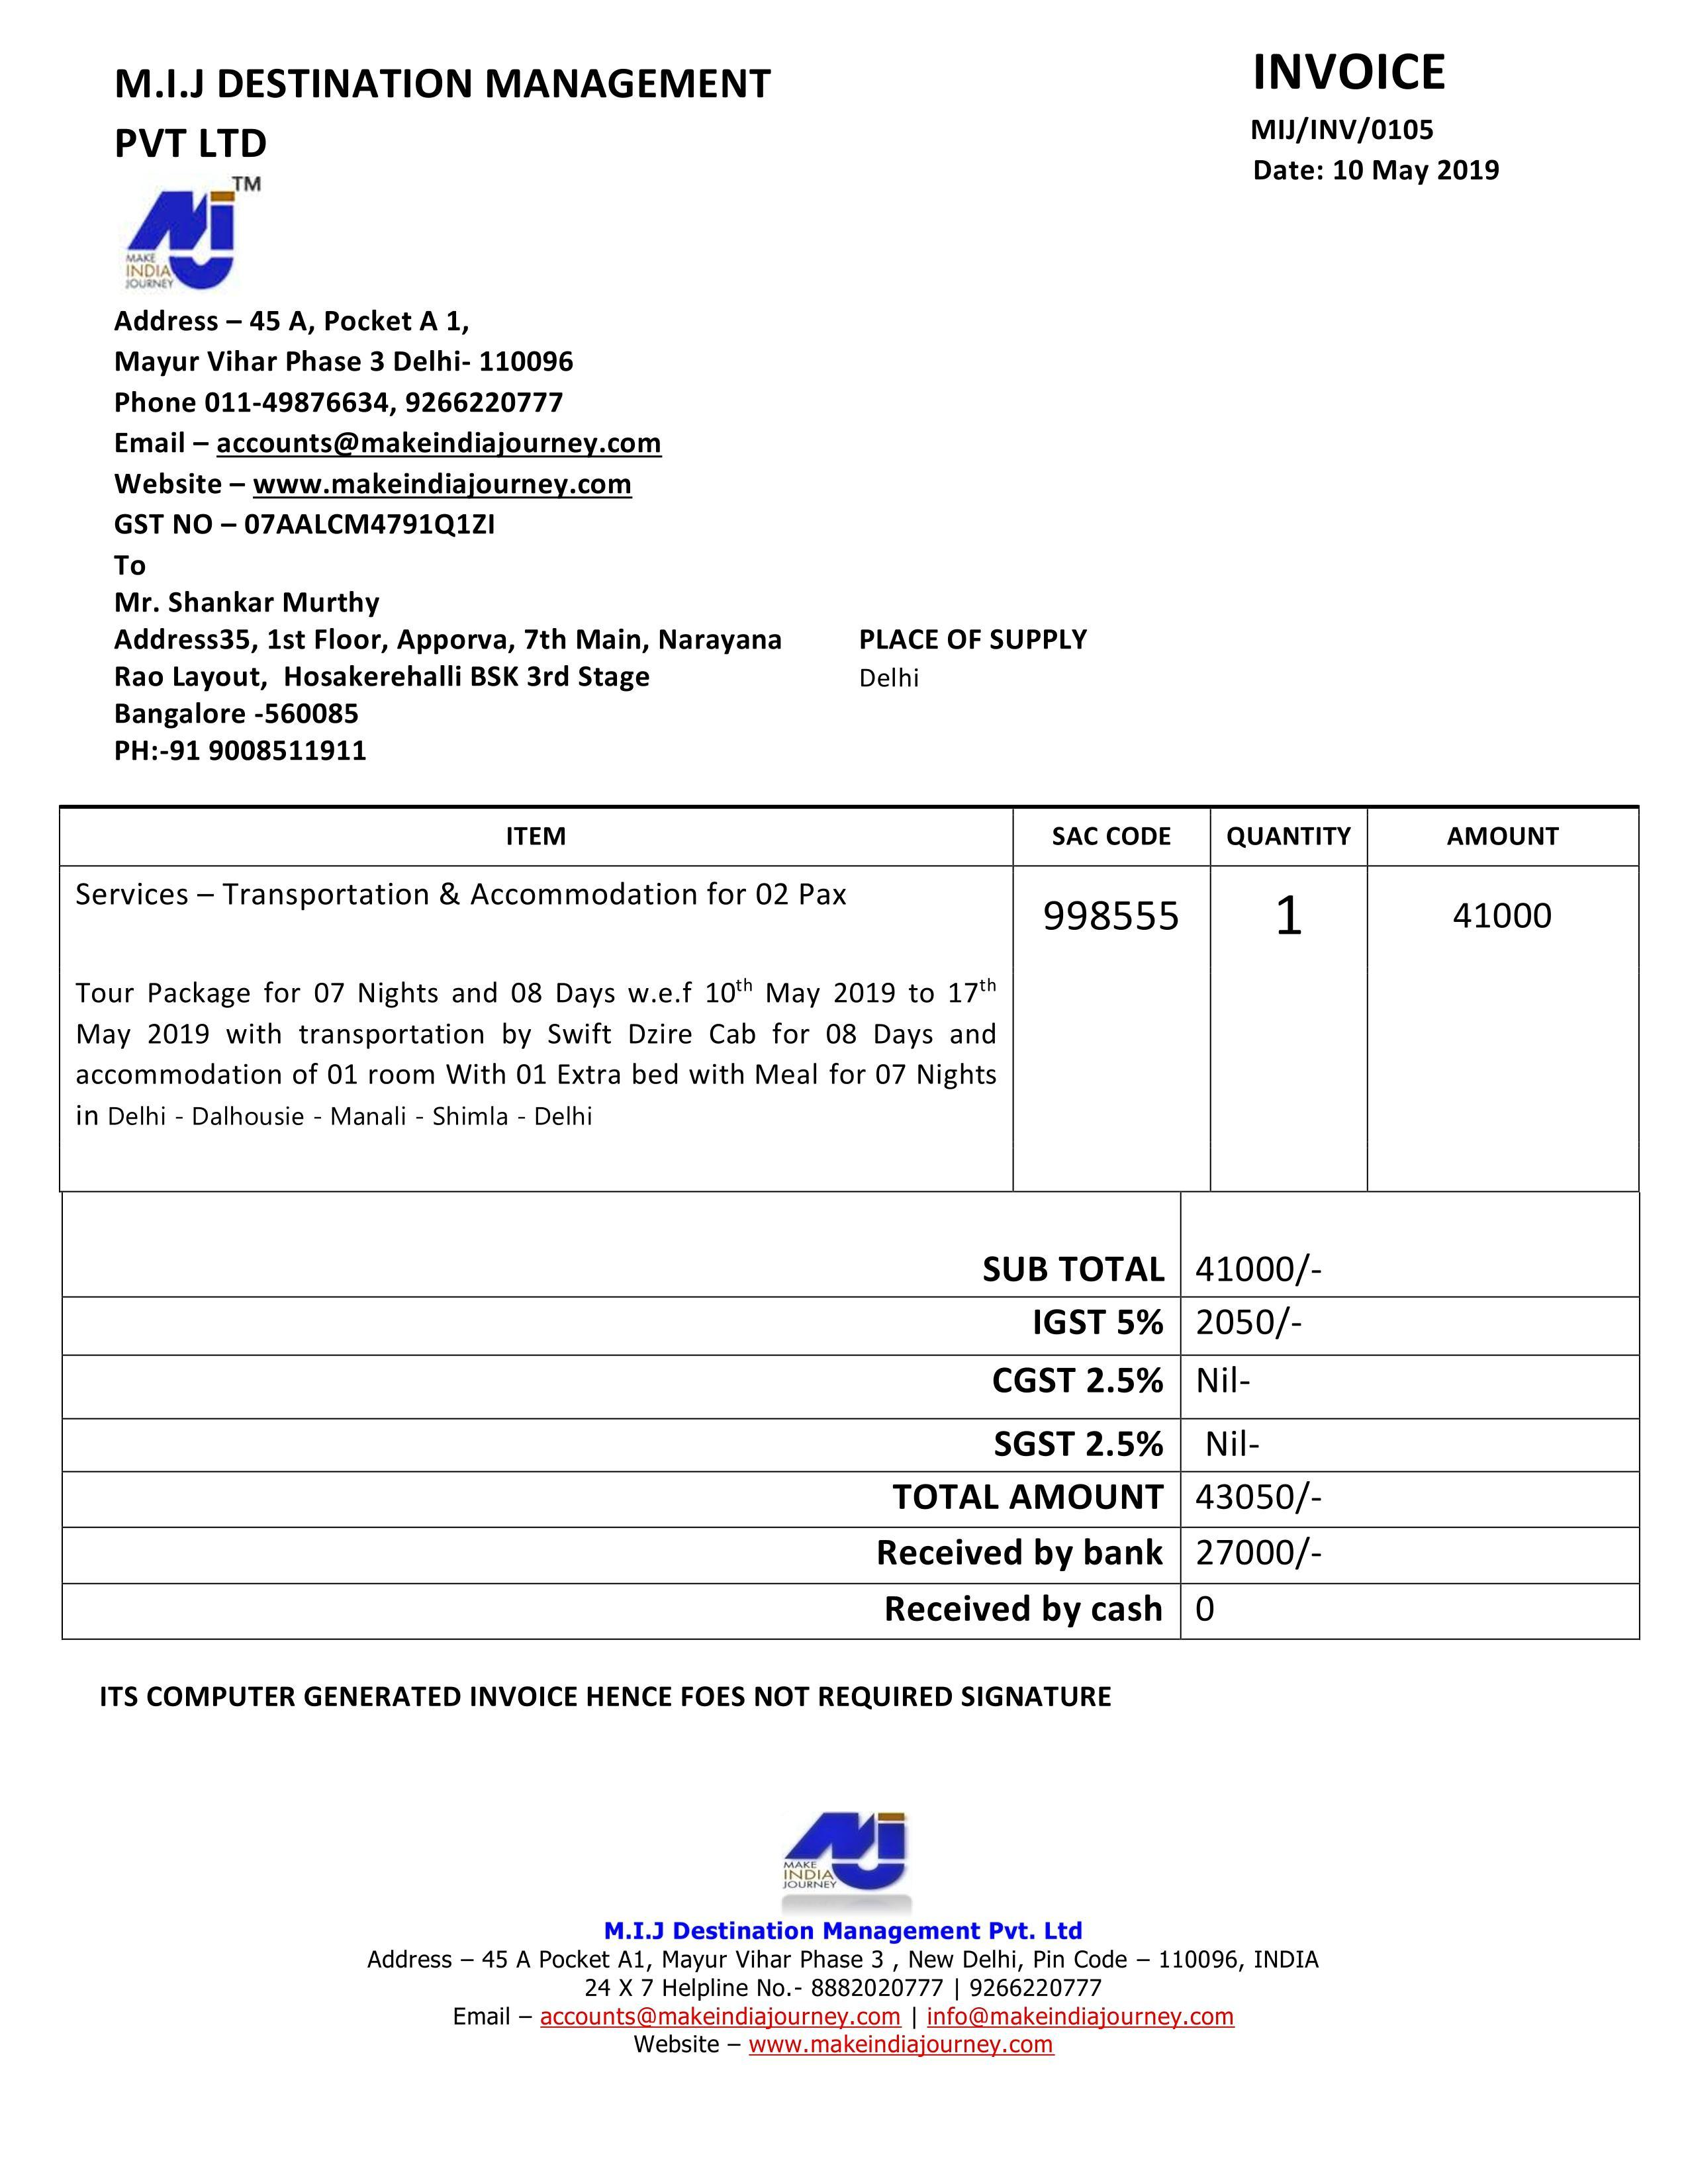InvoiceDate: (1328, 154, 1505, 184)
InvoiceNumber: (1239, 112, 1442, 149)
TotalAmount: (1186, 1461, 1332, 1523)
